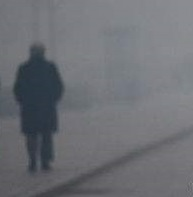person: (12, 42, 66, 173)
